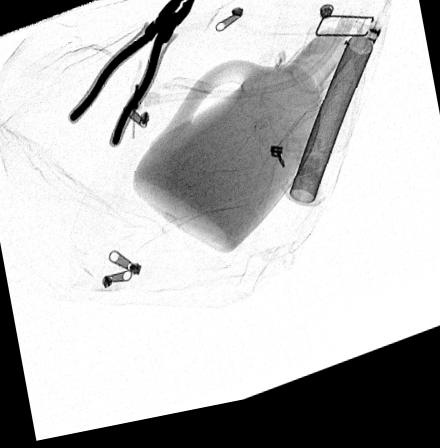Pliers: (68, 0, 198, 150)
